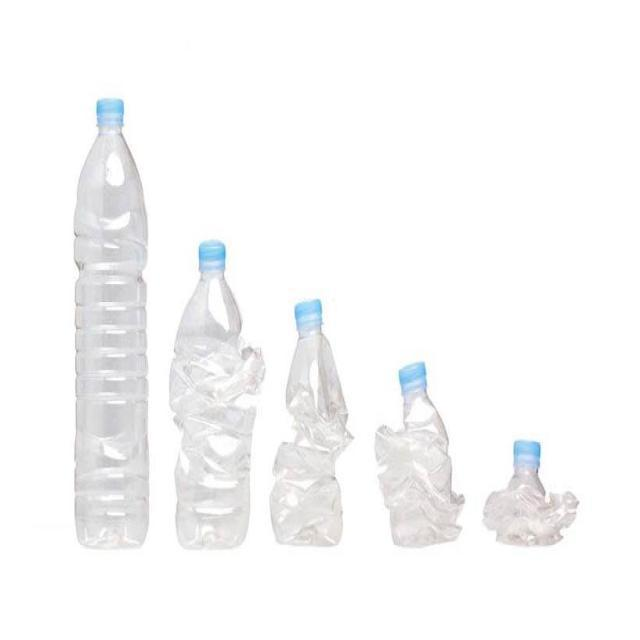Plastic: (67, 80, 157, 558), (166, 216, 270, 556), (264, 277, 369, 551), (368, 327, 483, 560), (479, 402, 589, 556)
